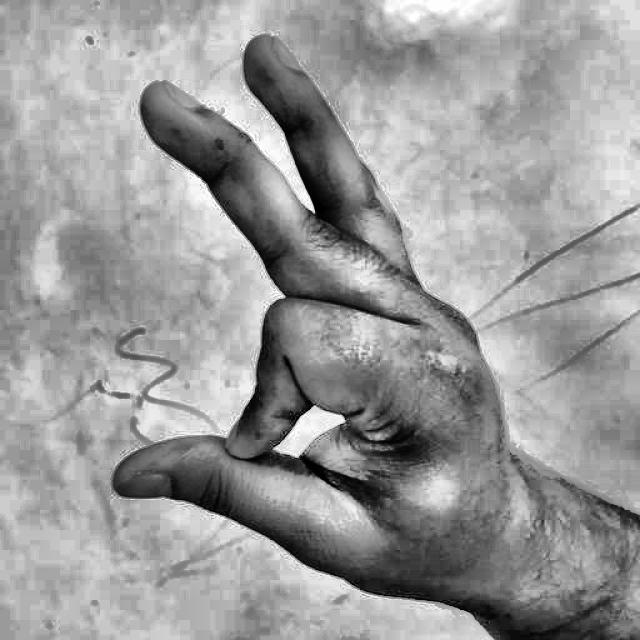Uo: (59, 18, 596, 628)
